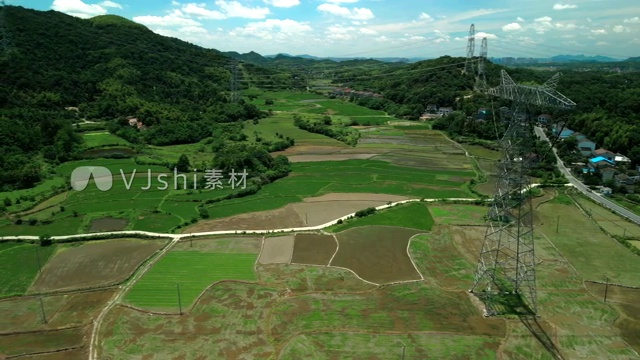tower_body: (477, 66, 577, 325)
tower_foot: (467, 243, 543, 321)
tower_head: (483, 69, 575, 114)
